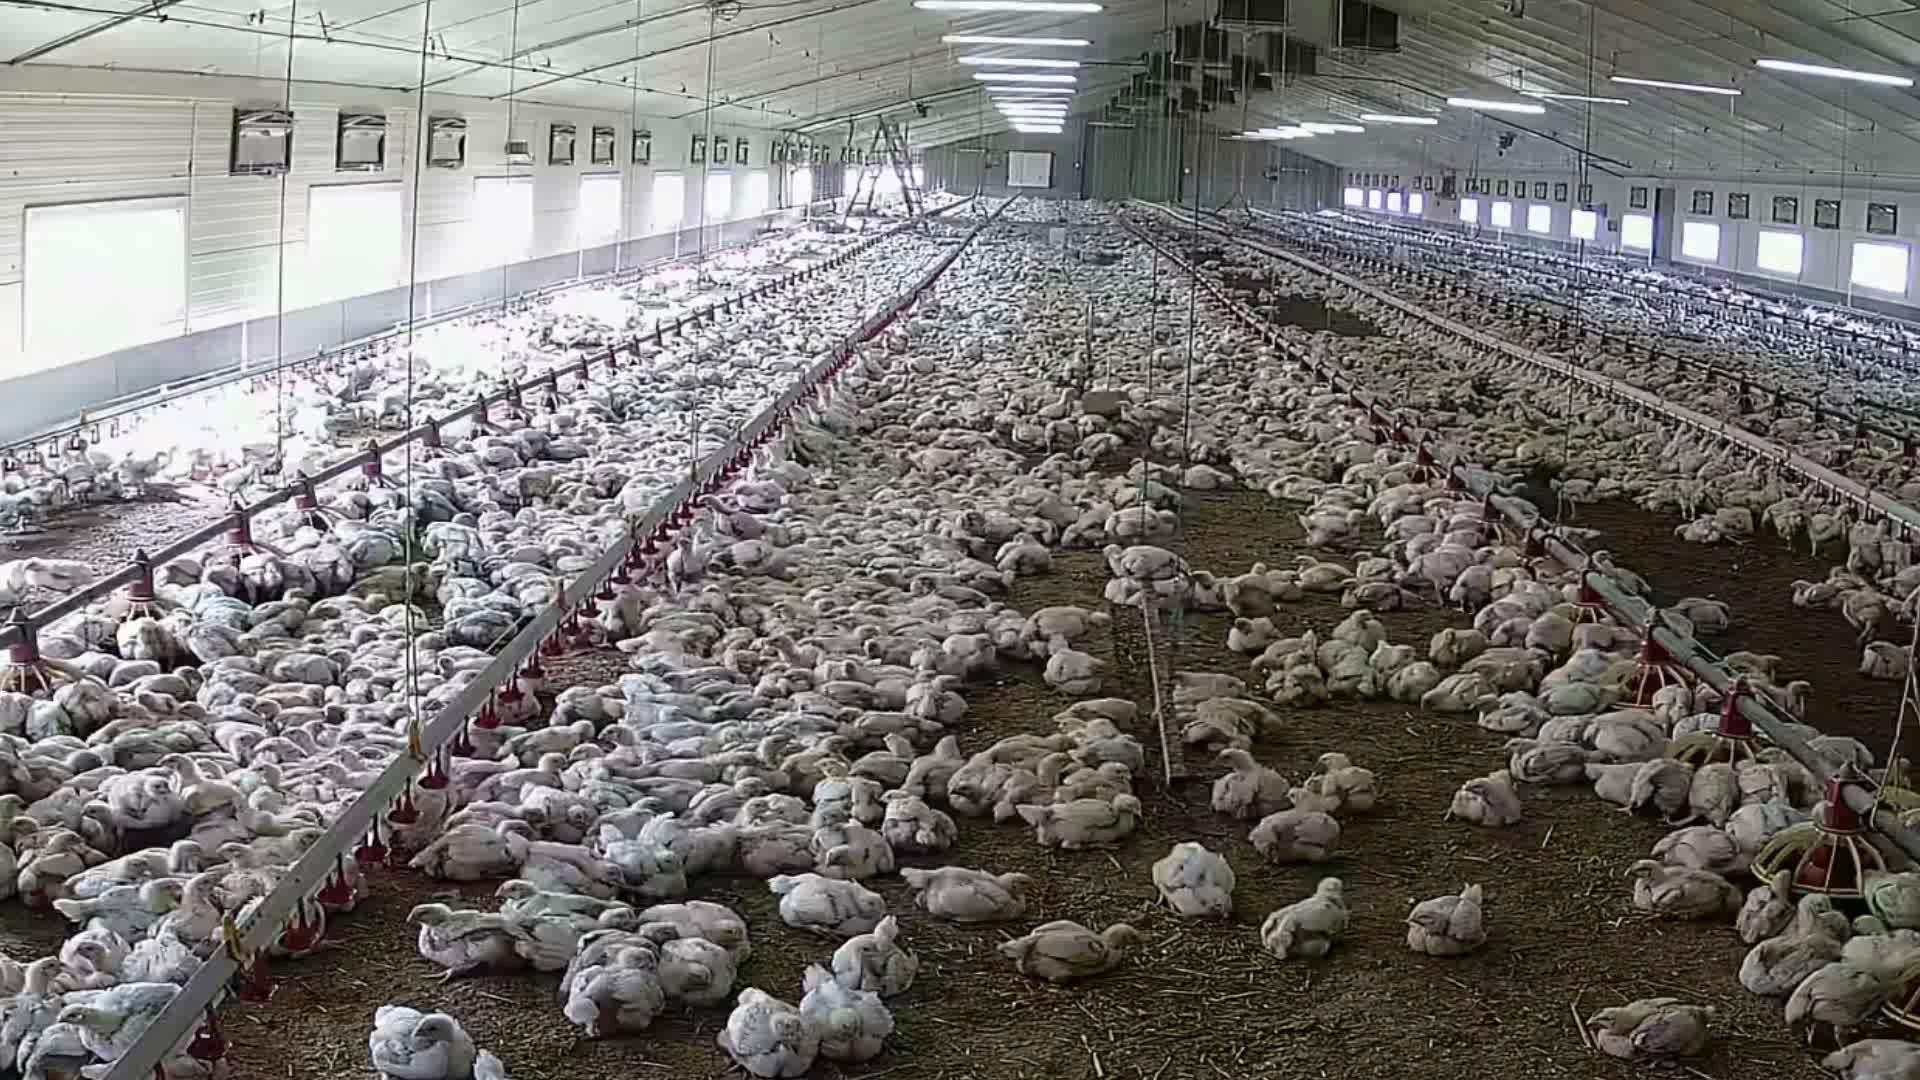poussin: (73, 977, 199, 1062), (719, 985, 831, 1079), (802, 967, 899, 1069), (1799, 959, 1913, 1046), (562, 956, 666, 1039), (1741, 905, 1846, 986), (398, 903, 514, 976), (766, 869, 891, 935), (512, 833, 625, 906), (505, 909, 616, 982), (411, 819, 541, 880), (1262, 870, 1357, 952), (1025, 795, 1156, 853), (222, 882, 320, 959), (898, 865, 1050, 914), (1004, 930, 1145, 980), (1714, 861, 1803, 940), (840, 915, 920, 1000), (644, 898, 762, 955), (1404, 873, 1487, 953), (1154, 844, 1237, 922), (378, 1014, 477, 1076), (646, 815, 746, 876), (600, 829, 680, 905), (986, 749, 1068, 823), (1586, 1006, 1710, 1054), (1750, 891, 1841, 956), (148, 876, 225, 951), (808, 753, 891, 823), (1216, 748, 1287, 827), (1629, 860, 1735, 913), (73, 880, 185, 930), (491, 878, 628, 919), (33, 985, 109, 1058), (655, 936, 746, 997), (0, 956, 63, 1043), (1247, 808, 1342, 864), (25, 827, 98, 898), (876, 785, 953, 851), (1668, 819, 1755, 877), (956, 742, 1017, 822), (1034, 758, 1141, 803), (816, 819, 894, 877), (1623, 756, 1691, 822), (1858, 915, 1920, 986), (121, 935, 206, 986), (1584, 709, 1668, 761), (531, 783, 603, 844), (1445, 766, 1519, 824), (1828, 1034, 1920, 1080), (558, 944, 662, 985), (479, 754, 568, 802), (1465, 647, 1557, 692), (349, 787, 422, 844), (691, 771, 773, 820), (90, 1054, 248, 1079), (513, 720, 604, 764), (843, 708, 945, 746), (166, 756, 237, 810), (298, 814, 357, 878), (1101, 543, 1191, 585), (1705, 808, 1811, 844), (1407, 545, 1495, 587), (1180, 698, 1271, 737), (69, 918, 129, 976), (1738, 756, 1793, 819), (785, 732, 860, 778), (910, 733, 967, 794), (1858, 869, 1920, 924), (1586, 750, 1656, 799), (218, 844, 291, 890), (1042, 640, 1106, 692), (1697, 754, 1743, 828), (571, 918, 683, 948), (55, 676, 123, 727), (1168, 658, 1236, 707), (856, 732, 916, 785), (1294, 506, 1366, 550), (74, 857, 146, 899), (1505, 738, 1581, 778), (596, 798, 670, 839), (1597, 550, 1652, 603), (1055, 694, 1143, 727), (721, 729, 793, 770), (1269, 662, 1325, 712), (22, 556, 99, 593), (438, 612, 517, 647), (115, 777, 169, 828), (749, 828, 803, 880), (698, 492, 761, 535), (1527, 609, 1592, 651), (26, 696, 82, 745), (757, 439, 815, 485), (1862, 640, 1920, 686), (1324, 750, 1364, 818), (617, 629, 717, 655), (804, 806, 848, 866), (1771, 483, 1820, 537), (572, 746, 644, 783), (1054, 713, 1127, 749), (1749, 674, 1822, 709), (913, 578, 990, 611), (1340, 579, 1420, 611), (1716, 647, 1789, 682), (1419, 673, 1495, 705), (257, 580, 309, 629), (760, 632, 829, 667), (618, 775, 704, 804), (592, 587, 637, 642), (1283, 767, 1332, 818), (1735, 467, 1784, 517), (1428, 624, 1487, 665), (1671, 708, 1734, 746), (30, 733, 98, 769), (599, 725, 705, 748), (258, 758, 305, 810), (1295, 553, 1353, 593), (1021, 608, 1098, 638), (914, 637, 963, 684), (1720, 460, 1771, 505), (1557, 675, 1627, 708), (596, 732, 669, 764), (363, 384, 418, 425), (749, 794, 815, 828), (638, 687, 709, 719), (1331, 611, 1394, 646), (1842, 589, 1887, 640), (1648, 669, 1692, 720), (1551, 657, 1631, 684), (720, 541, 785, 575), (1536, 708, 1598, 744), (1461, 596, 1520, 633), (141, 765, 186, 814), (249, 833, 324, 862), (108, 741, 195, 766), (392, 484, 455, 518), (1750, 713, 1818, 745), (1797, 742, 1875, 770), (347, 531, 401, 571), (553, 687, 617, 720), (777, 415, 824, 460), (998, 729, 1068, 760), (1474, 694, 1544, 724), (124, 665, 200, 692), (1489, 612, 1539, 654), (757, 707, 829, 736), (121, 454, 171, 495), (1002, 537, 1058, 574), (125, 618, 170, 663), (1444, 567, 1490, 611), (468, 799, 553, 823), (357, 564, 426, 593), (310, 593, 393, 617), (1259, 629, 1321, 661), (1230, 567, 1273, 613), (1808, 508, 1850, 554), (165, 612, 222, 646), (1789, 574, 1847, 607), (483, 554, 551, 582), (135, 843, 203, 870), (1552, 477, 1596, 521), (204, 650, 276, 676), (1076, 433, 1133, 465), (430, 568, 493, 597), (258, 737, 316, 769), (1373, 484, 1431, 516), (1679, 596, 1730, 632), (368, 509, 423, 542), (1568, 618, 1621, 653), (754, 444, 791, 493), (0, 556, 36, 607), (91, 803, 127, 853), (600, 676, 671, 702), (560, 530, 615, 563), (1665, 477, 1712, 516), (236, 549, 273, 596), (947, 634, 994, 671), (276, 654, 345, 679), (173, 579, 225, 612), (1367, 640, 1420, 673), (874, 673, 916, 713), (1261, 564, 1305, 603), (1406, 518, 1451, 556), (463, 1044, 510, 1080), (939, 670, 968, 728), (331, 752, 394, 778), (802, 629, 881, 650), (251, 699, 324, 721), (44, 789, 88, 825), (1356, 546, 1406, 579), (738, 793, 785, 828), (102, 657, 157, 686), (136, 669, 196, 695), (375, 599, 419, 634), (690, 723, 757, 746), (1228, 615, 1273, 650), (161, 549, 211, 580), (287, 725, 335, 758), (820, 678, 880, 704), (1850, 524, 1888, 564), (666, 670, 731, 694), (907, 671, 940, 717), (319, 764, 380, 789), (1720, 455, 1760, 492), (183, 737, 251, 760), (314, 775, 349, 818), (642, 702, 690, 733), (960, 509, 1017, 535), (1389, 669, 1445, 695), (517, 464, 560, 498), (1697, 447, 1735, 485), (318, 537, 349, 583), (1345, 447, 1398, 475), (270, 556, 311, 592), (716, 690, 785, 711), (397, 465, 451, 492), (196, 757, 251, 783), (644, 613, 727, 630), (1663, 430, 1702, 465), (219, 465, 253, 506), (835, 662, 910, 680), (1127, 458, 1178, 485), (1113, 512, 1163, 539), (69, 618, 127, 642), (342, 715, 400, 738), (1635, 479, 1679, 510), (1718, 508, 1754, 546), (429, 514, 477, 542), (720, 634, 748, 683), (16, 765, 73, 789), (1117, 401, 1163, 430), (1062, 469, 1104, 501), (1270, 476, 1333, 497), (313, 601, 372, 624), (434, 654, 501, 674), (353, 483, 401, 510), (1651, 422, 1687, 459), (1010, 418, 1050, 451), (1386, 510, 1444, 533), (738, 476, 785, 504), (8, 814, 61, 837), (621, 483, 674, 506), (1321, 642, 1361, 674), (255, 687, 327, 704), (899, 444, 967, 463), (1303, 484, 1370, 502), (1250, 463, 1321, 480), (434, 670, 488, 692), (135, 727, 211, 742), (645, 658, 720, 674), (344, 666, 397, 688), (498, 539, 551, 562), (670, 537, 696, 582), (1062, 518, 1106, 545), (1684, 440, 1720, 473), (1345, 655, 1370, 702), (0, 948, 22, 1000), (11, 833, 69, 853), (1669, 516, 1727, 535), (443, 591, 484, 618), (487, 576, 520, 611), (1043, 385, 1076, 419), (73, 462, 98, 506), (76, 651, 121, 676), (1015, 512, 1058, 538), (1195, 568, 1221, 611), (273, 527, 313, 555), (320, 628, 376, 647), (353, 705, 413, 724), (0, 786, 28, 825), (1178, 468, 1226, 491), (556, 550, 600, 575), (484, 471, 516, 505), (207, 554, 233, 595), (781, 545, 839, 563), (480, 443, 525, 467), (400, 675, 444, 699), (327, 650, 393, 666), (0, 687, 22, 733), (1884, 563, 1920, 592), (0, 735, 18, 790), (1581, 401, 1618, 429), (579, 465, 630, 485), (1568, 394, 1606, 421), (29, 479, 62, 509), (783, 585, 837, 604), (328, 492, 363, 521), (1357, 463, 1415, 480), (1516, 400, 1551, 429), (767, 599, 818, 618), (429, 707, 472, 729), (545, 480, 591, 501), (796, 699, 852, 716), (50, 633, 87, 658), (1615, 407, 1646, 438), (190, 611, 248, 626), (1513, 591, 1556, 612), (469, 430, 517, 448), (1081, 411, 1113, 439), (546, 439, 596, 456), (953, 498, 1004, 516), (211, 695, 257, 713), (1104, 585, 1153, 603), (430, 458, 463, 483), (481, 502, 516, 526), (1371, 475, 1423, 491), (1047, 425, 1073, 455), (567, 484, 600, 508), (943, 485, 992, 501), (796, 563, 849, 578), (1557, 385, 1586, 411), (545, 409, 582, 429), (874, 566, 916, 583), (0, 836, 12, 897), (866, 601, 915, 616), (1543, 377, 1572, 401), (429, 647, 491, 658), (1159, 510, 1192, 530), (360, 746, 407, 760), (815, 607, 857, 621), (1309, 450, 1335, 473), (475, 538, 512, 554), (1040, 455, 1069, 473), (522, 427, 545, 451), (521, 505, 546, 526), (804, 604, 840, 618), (796, 537, 851, 546), (839, 433, 868, 450), (865, 452, 891, 471), (869, 488, 906, 501), (865, 558, 924, 566), (334, 732, 365, 746), (824, 570, 872, 579), (934, 473, 967, 487), (964, 473, 990, 489), (746, 705, 795, 713), (785, 667, 816, 679), (931, 468, 953, 484), (860, 508, 893, 517), (194, 603, 248, 608), (891, 538, 915, 550), (835, 501, 858, 512), (477, 531, 500, 541), (861, 444, 884, 454), (642, 397, 666, 405), (653, 382, 670, 390), (638, 389, 654, 397)
